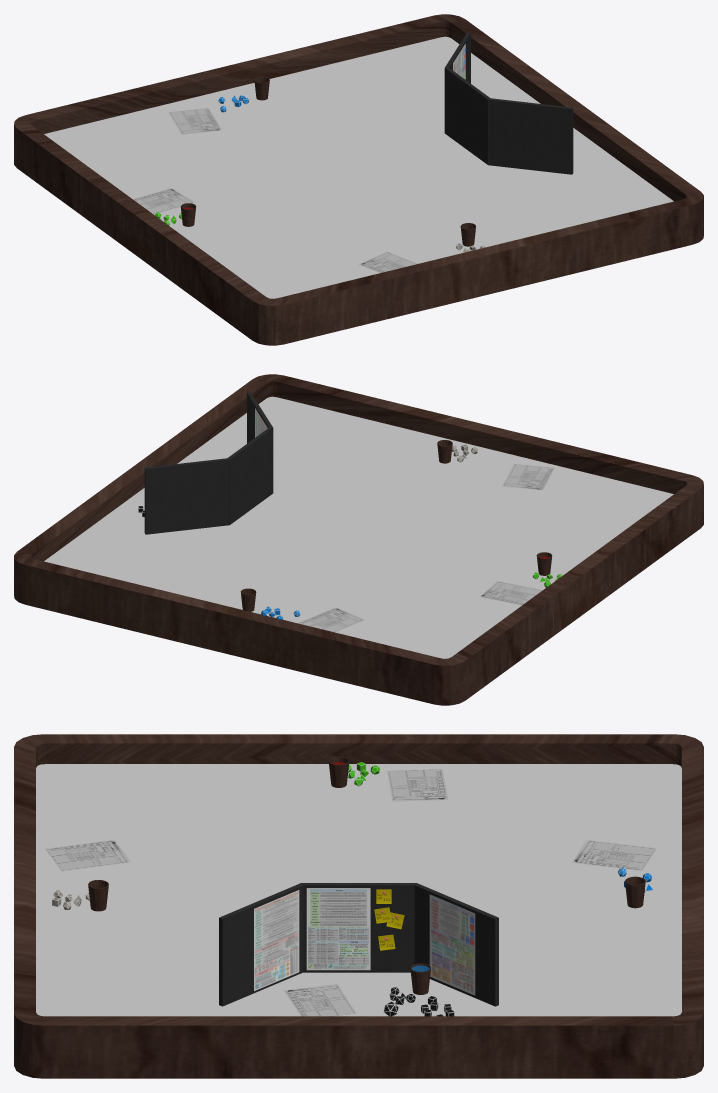
3 views of the same model, one above another, from view 1: azimuth 30°, elevation 25°; view 2: azimuth 150°, elevation 25°; view 3: azimuth 270°, elevation 25° (orthographic). The views are drawn at different scales.
Visible parts, largest first — view 1: Table Top, map, Table Top Carpet, DM Cover Board, Character Sheet 2, Character Sheet 3, Character Sheet 1; view 2: Table Top, map, Table Top Carpet, DM Cover Board, Character Sheet 1, Character Sheet 3, Character Sheet 2; view 3: Table Top, Table Top Carpet, map, DM Cover Board, DM Center Paper, DM Right Paper, DM Left Paper, Character Sheet 1, Character Sheet 2, Character Sheet 3, DM Character Sheet, Cup 1 (+3 smaller).
Boxes of the visible parts, <box> form: Table Top: <box>14,14,703,345</box>; map: <box>110,90,524,279</box>; Table Top Carpet: <box>44,36,673,298</box>; DM Cover Board: <box>444,32,573,174</box>; Character Sheet 2: <box>168,108,221,134</box>; Character Sheet 3: <box>133,188,195,214</box>; Character Sheet 1: <box>358,251,417,272</box>; Table Top: <box>14,374,703,705</box>; map: <box>192,451,605,640</box>; Table Top Carpet: <box>44,396,673,658</box>; DM Cover Board: <box>144,392,273,534</box>; Character Sheet 1: <box>502,464,554,490</box>; Character Sheet 3: <box>479,581,542,605</box>; Character Sheet 2: <box>297,607,364,632</box>; Table Top: <box>14,734,703,1078</box>; Table Top Carpet: <box>36,764,681,1016</box>; map: <box>120,797,601,949</box>; DM Cover Board: <box>219,883,498,1006</box>; DM Center Paper: <box>306,888,370,970</box>; DM Right Paper: <box>429,894,475,995</box>; DM Left Paper: <box>254,890,299,990</box>; Character Sheet 1: <box>45,839,130,871</box>; Character Sheet 2: <box>572,840,656,870</box>; Character Sheet 3: <box>386,769,448,801</box>; DM Character Sheet: <box>283,984,356,1016</box>; Cup 1: <box>88,880,108,911</box>.
Bounding box in the file's own units: 1.78 × 0.3417 × 1.78.
